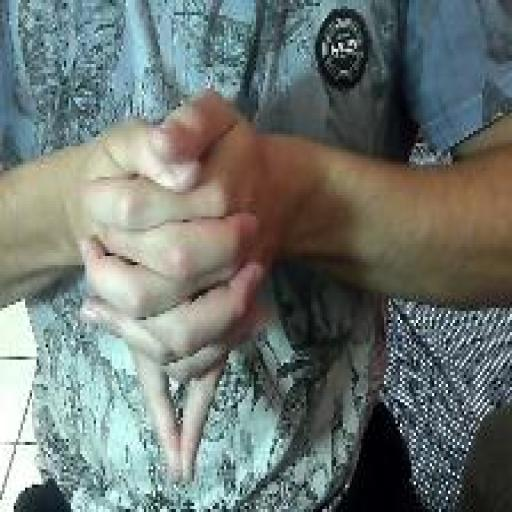Tatsu -dragon-: (77, 82, 273, 494)
